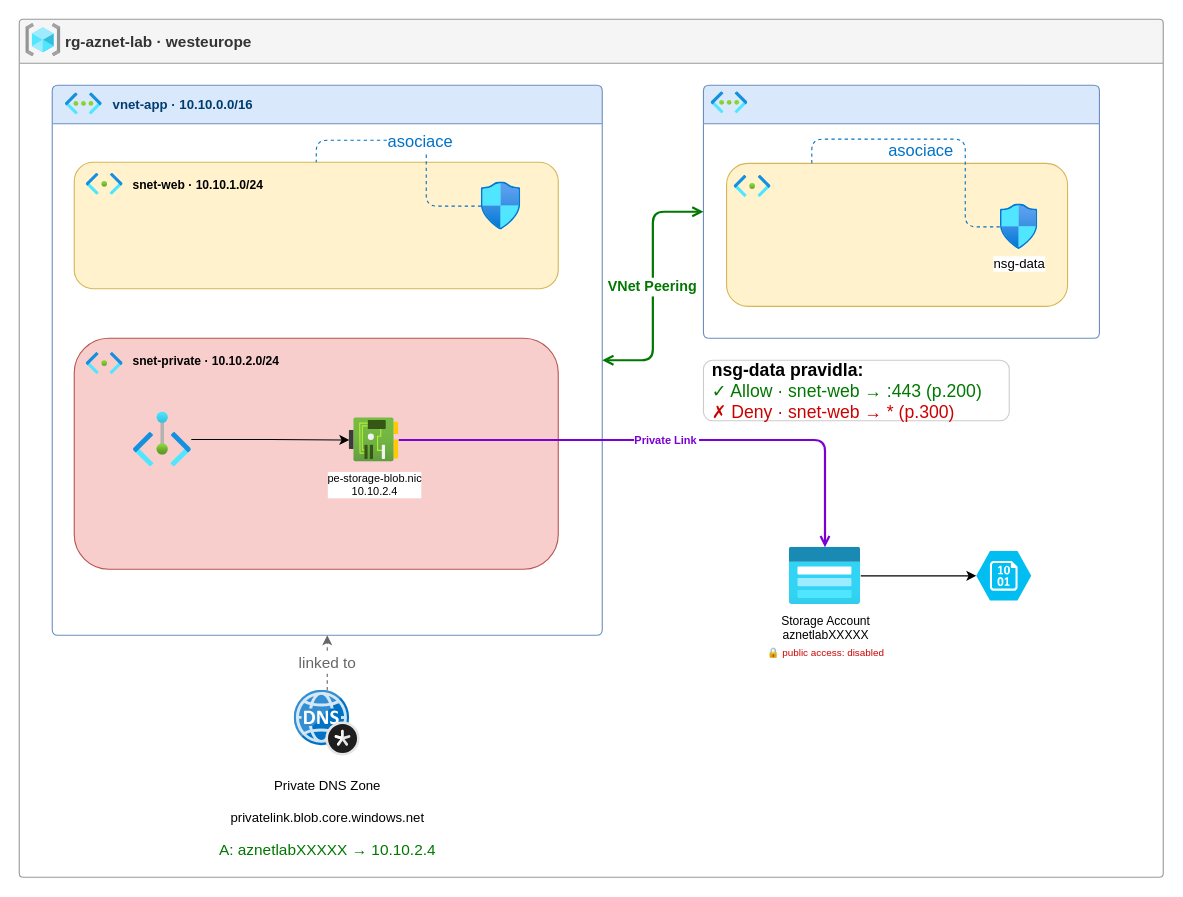
Some shapes in this 1183 by 897 pixel diagram are drawn without their labels. Each missing label, with the box of its shape:
Blob storage: (976, 551, 1031, 600)
nsg-web: (481, 182, 520, 230)
Private Endpoint: (133, 412, 191, 466)
snet-data · 10.20.1.0/24: (725, 162, 1068, 306)
vnet-data · 10.20.0.0/16: (702, 84, 1099, 338)
